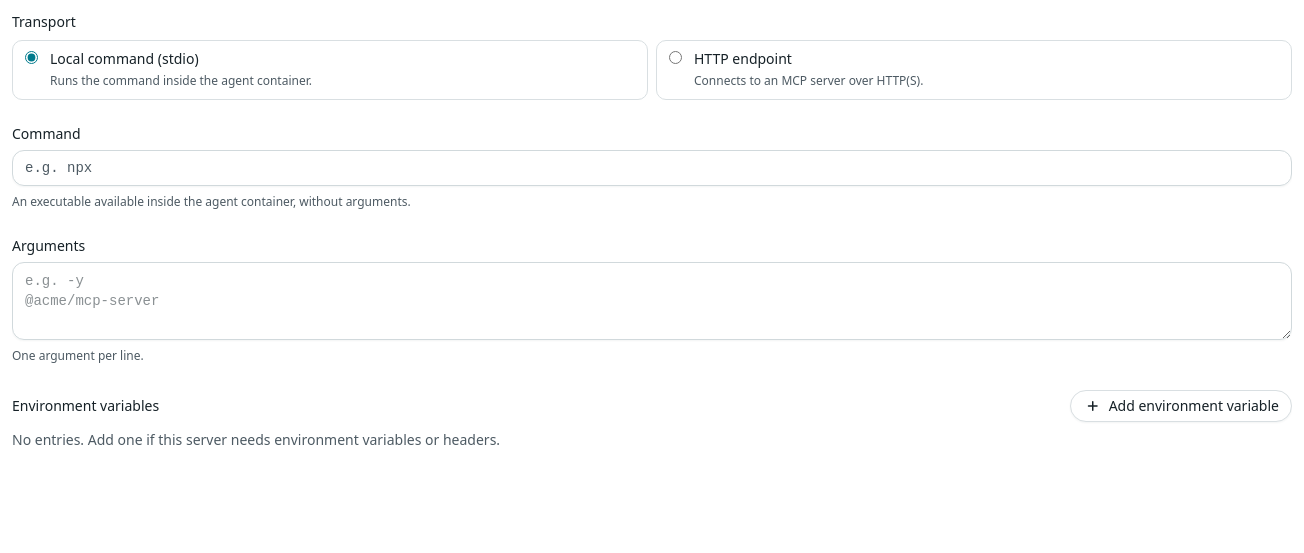
Test: mcp transport form — entries › adds a nonsecret entry row
Click the button "Add environment variable" at [1181, 406], box [1070,390,1292,422]
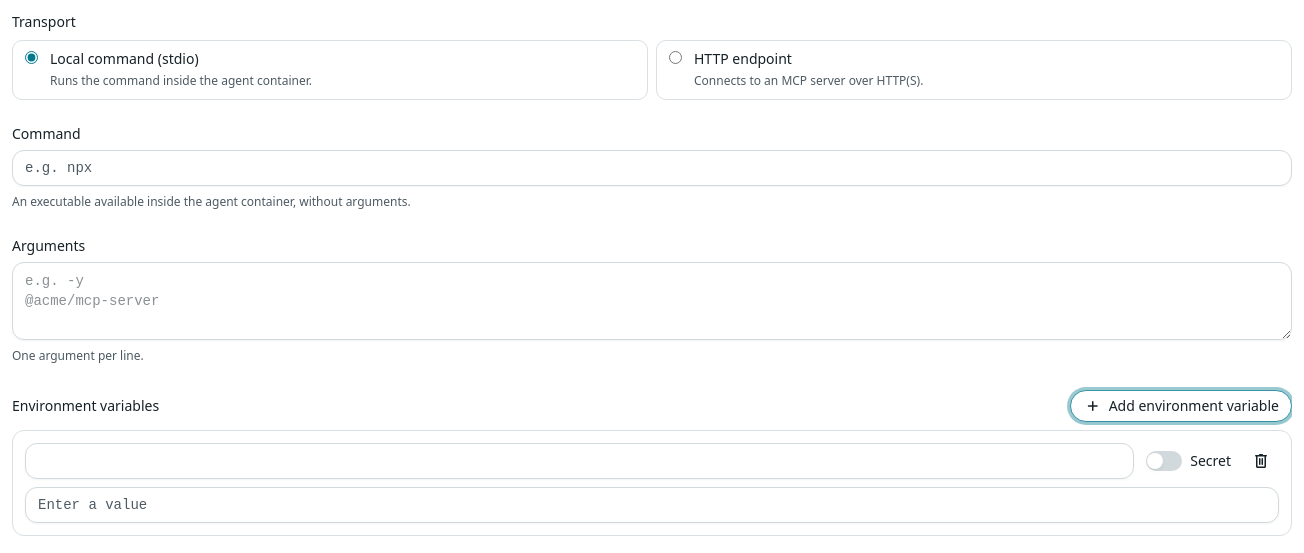
Expected: the number of fields named "Environment variable name" is 1, [25,443,1134,479]
